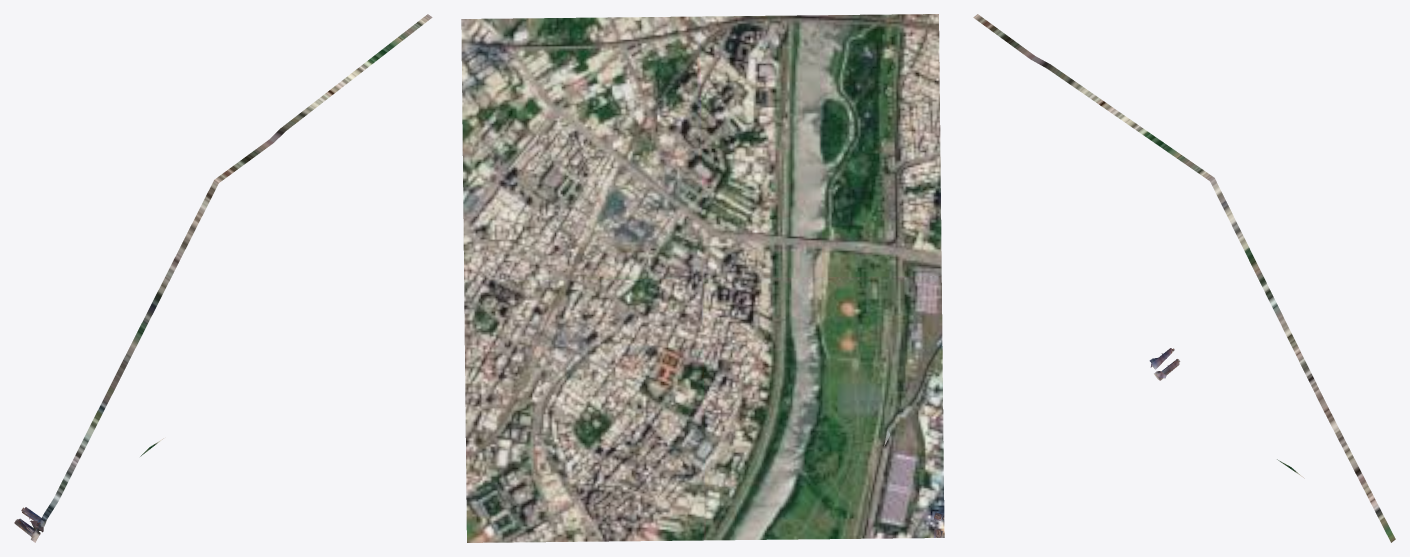
3 renders of one model, left to right at view 1: azimuth 30°, elevation 25°; view 2: azimuth 150°, elevation 25°; view 3: azimuth 270°, elevation 25°, orthographic. The views are drawn at different scales.
Size of the model in its own units: 2487 by 2224 by 2067.
Materials: 1 (1 with a texture image).
